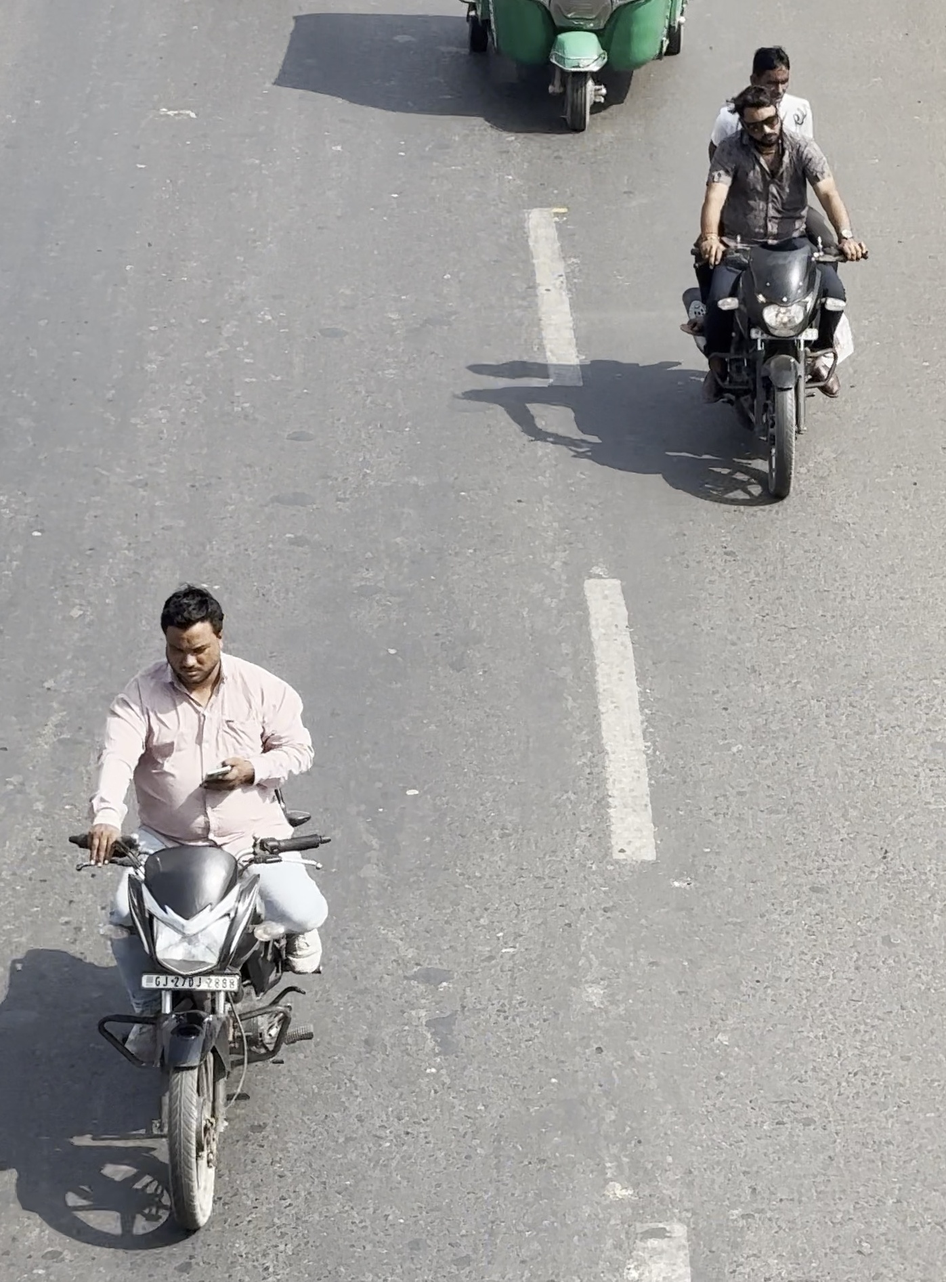BikeWithRider: (58, 574, 343, 1241), (667, 37, 879, 511)
NoHelmet: (147, 577, 238, 688), (723, 81, 795, 160), (742, 40, 800, 108)
